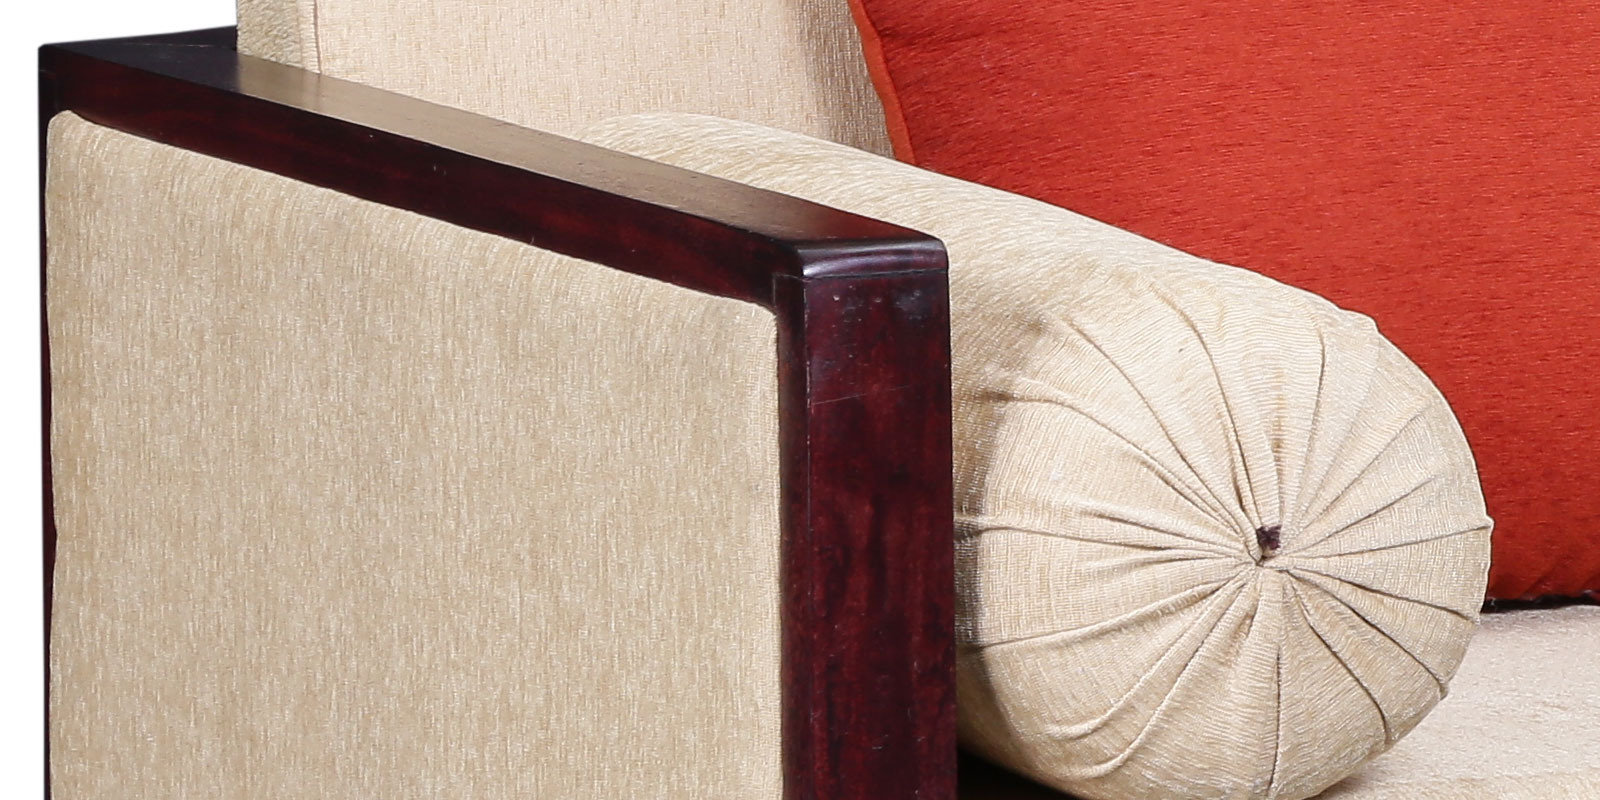Barnes Three Seater Sofa with Cushions in Passion Mahogany Finish by Woodsworth: (18, 7, 1533, 799)
